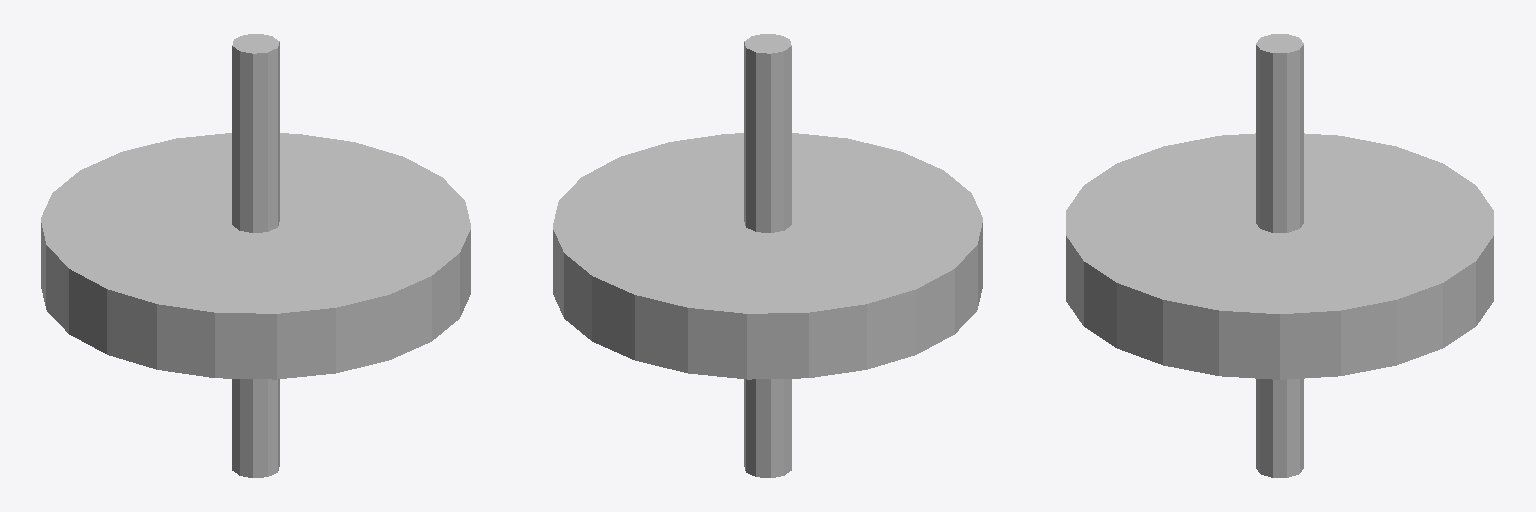
The picture shows the model from 3 angles: view 1: azimuth 30°, elevation 25°; view 2: azimuth 150°, elevation 25°; view 3: azimuth 270°, elevation 25°; orthographic projection.
Parts seen in each view (by area): view 1: gy1; view 2: gy1; view 3: gy1.
Part boxes in pixels (bbox=[...]): gy1: bbox=[41, 34, 470, 477]; gy1: bbox=[553, 34, 982, 477]; gy1: bbox=[1066, 34, 1493, 477].
Size of the model in its own units: 35.73 by 38.8 by 35.36.